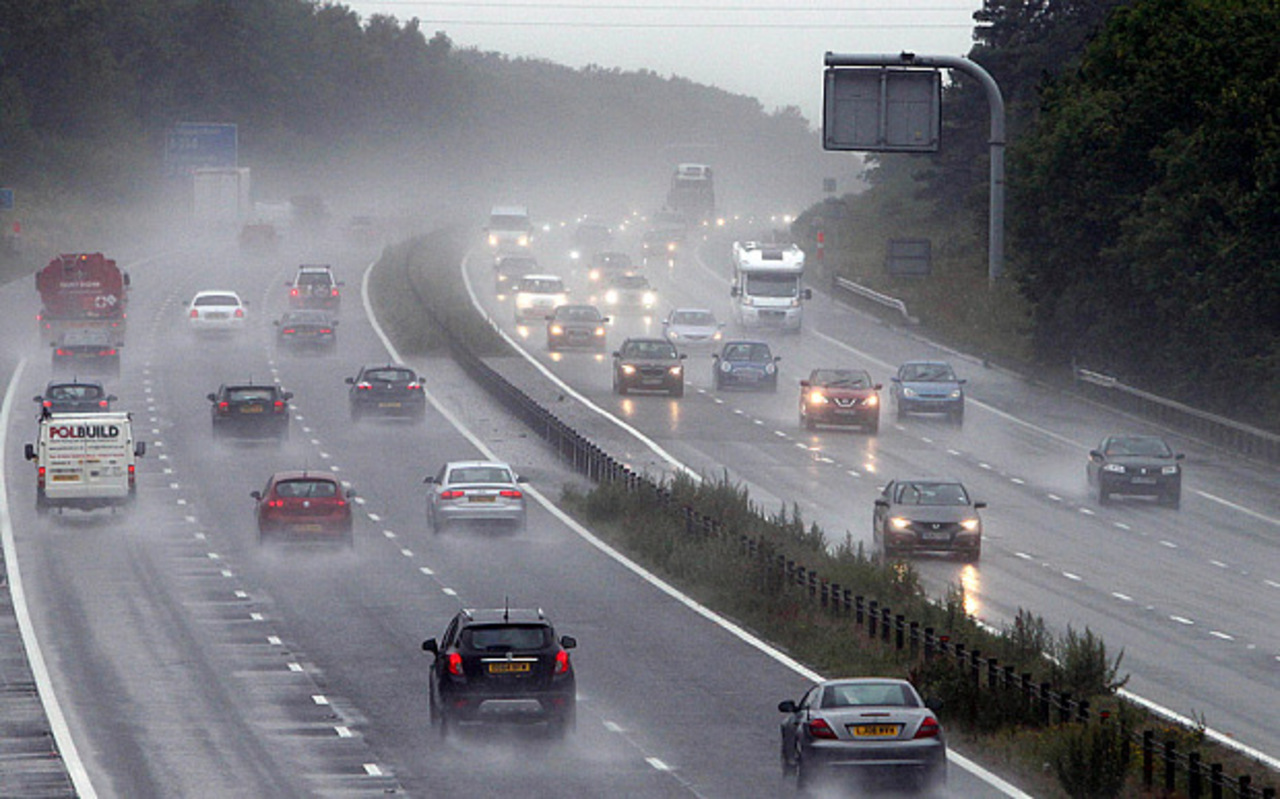bus: (732, 247, 802, 329)
car: (425, 602, 577, 732), (779, 676, 947, 789), (21, 411, 143, 510), (874, 477, 987, 562), (1084, 433, 1184, 505), (425, 460, 525, 530), (255, 473, 355, 542), (797, 367, 880, 433), (205, 377, 293, 436), (611, 335, 687, 397), (889, 358, 964, 418), (346, 365, 428, 418), (711, 339, 782, 389), (43, 331, 122, 375), (547, 303, 613, 350), (273, 308, 334, 354), (663, 306, 725, 349), (514, 274, 565, 322), (33, 384, 119, 412), (184, 290, 248, 327), (284, 263, 340, 302), (607, 275, 658, 313), (485, 207, 530, 250), (490, 252, 533, 291), (589, 254, 628, 287), (639, 229, 674, 260)
truck: (37, 256, 131, 333), (190, 163, 250, 257), (664, 163, 714, 239)
